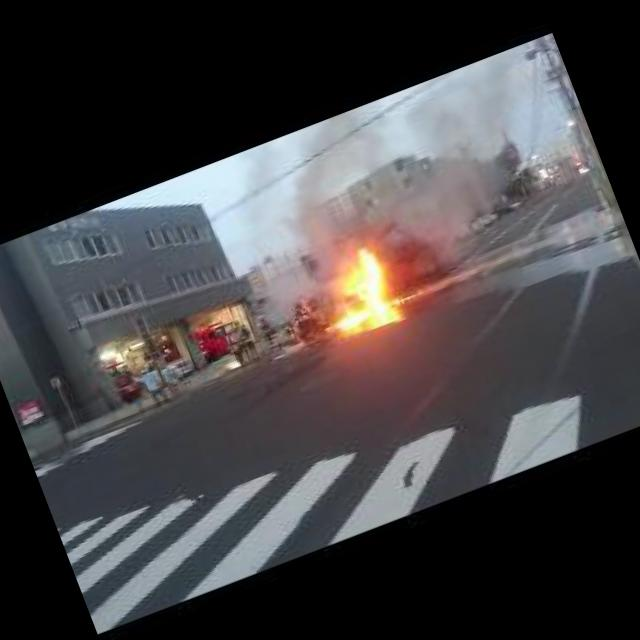fire: (308, 234, 424, 330)
smoke: (266, 109, 420, 268)
